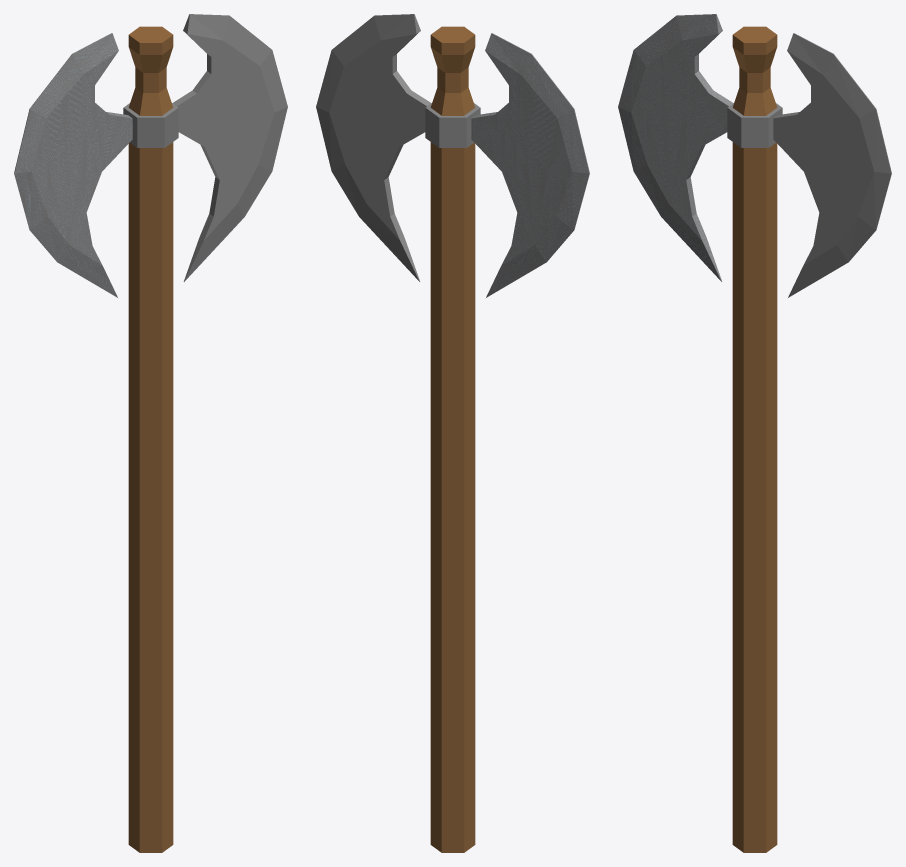
Rendered from Poleaxe.fbx.
3 views of the same model, side by side, from view 1: azimuth 30°, elevation 25°; view 2: azimuth 150°, elevation 25°; view 3: azimuth 330°, elevation 25° (orthographic).
Visible parts, largest first — view 1: Group3, Group5, Group4, Group2; view 2: Group3, Group5, Group4, Group2; view 3: Group3, Group4, Group5, Group2.
Boxes of the visible parts, x1,y1,x2,y2 form: Group3: (128, 26, 173, 852); Group5: (14, 33, 132, 297); Group4: (172, 14, 287, 281); Group2: (123, 103, 178, 147); Group3: (430, 26, 475, 852); Group5: (471, 33, 589, 297); Group4: (316, 14, 431, 281); Group2: (425, 103, 480, 147); Group3: (732, 26, 777, 852); Group4: (773, 33, 891, 297); Group5: (618, 14, 733, 281); Group2: (727, 103, 782, 147).
Bounding box in the file's own units: 353 × 1014 × 61.55.
